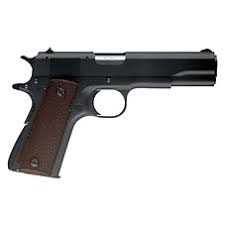gun: (6, 43, 219, 179)
